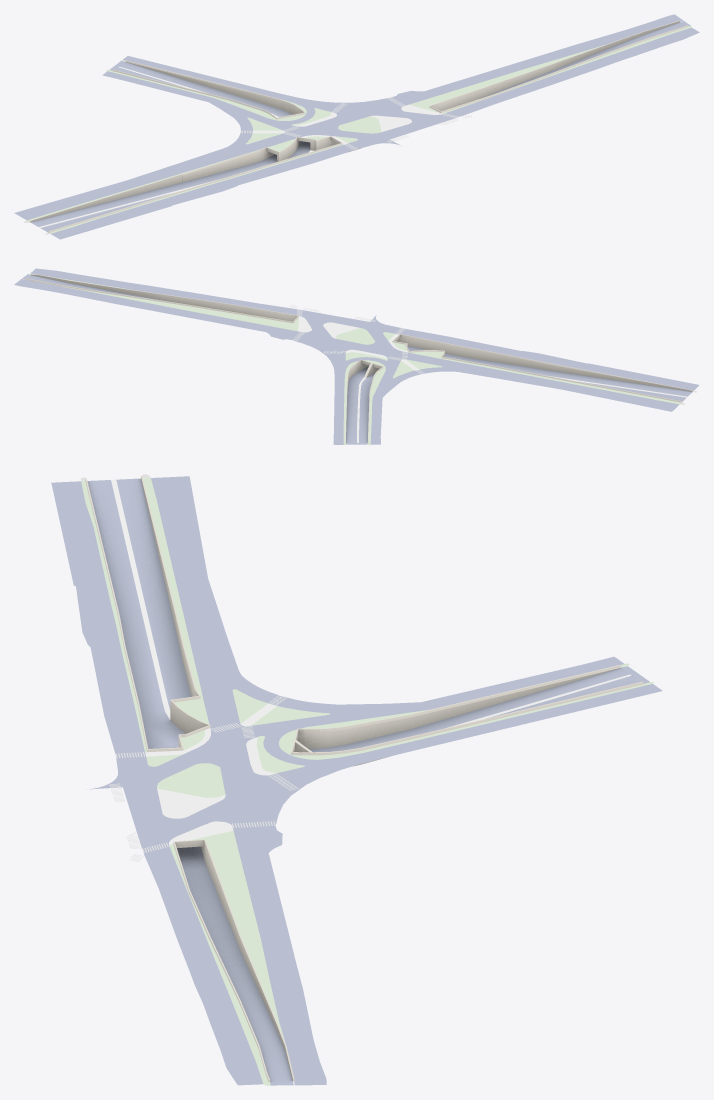
File: Raymbek-Suiyumbai.glb
3 views of the same model, one above another, from view 1: azimuth 30°, elevation 25°; view 2: azimuth 150°, elevation 25°; view 3: azimuth 270°, elevation 25° (orthographic). The views are drawn at different scales.
Visible parts, largest first — view 1: group_6, group_3.001, group_4.006, group_5.008; view 2: group_6, group_3.001, group_4.006, group_5.008; view 3: group_6, group_4.006, group_3.001, group_5.008.
Part boxes in pixels (box(x1,y1,x2,y2)): group_6: box(14, 14, 699, 239); group_3.001: box(24, 20, 687, 232); group_4.006: box(27, 26, 691, 233); group_5.008: box(39, 21, 683, 227); group_6: box(14, 268, 699, 444); group_3.001: box(25, 273, 692, 442); group_4.006: box(28, 273, 693, 445); group_5.008: box(23, 279, 687, 442); group_6: box(51, 476, 662, 1085); group_4.006: box(81, 478, 653, 1085); group_3.001: box(85, 474, 643, 1082); group_5.008: box(111, 479, 631, 1085).
Bounding box in the file's own units: 522 × 8 × 220.
Materials: 5 (2 with a texture image).
